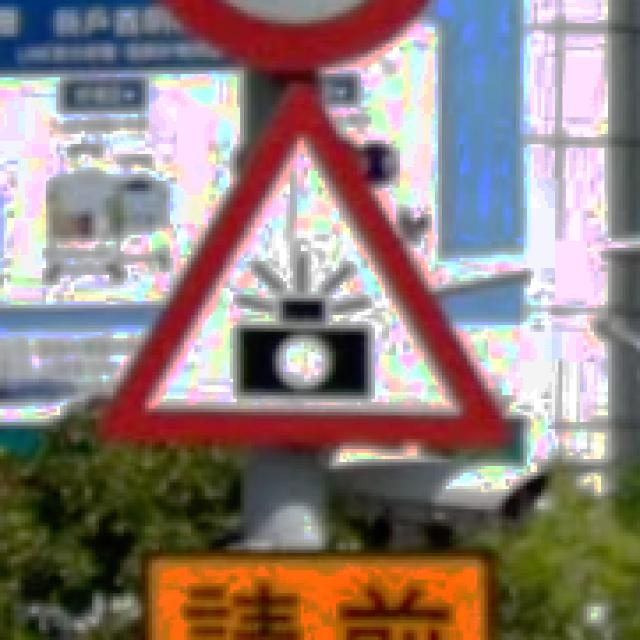speedcamera: (92, 77, 513, 456)
